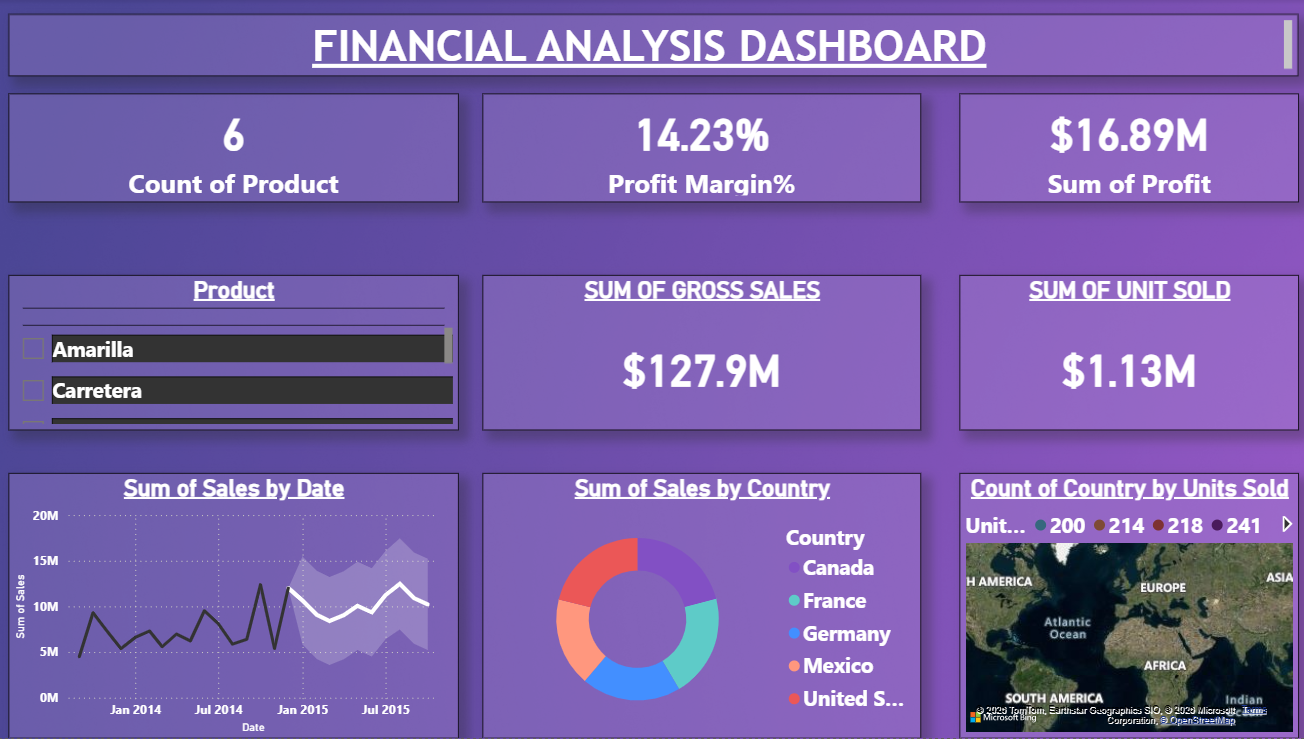

Layout of this report page (visuals, bound fields, positions):
{"tool":"powerbi","page":{"name":"Page 1","canvas":[1280,720],"ordinal":0},"visuals":[{"type":"slicer","title":"Product","fields":{"Values":["financials.Product"]},"box":[13.2,268.3,438.4,151.2],"z":0},{"type":"lineChart","fields":{"Category":["financials.Date"],"Y":["Sum(financials.Sales)"]},"box":[13.2,461.1,438.4,258.9],"z":1000},{"type":"filledMap","fields":{"Series":["financials.Units Sold"]},"box":[939.2,461.1,330.7,258.9],"z":2000},{"type":"card","title":"SUM OF GROSS SALES","fields":{"Values":["Sum(financials.Gross Sales)"]},"box":[474.3,268.3,427.1,151.2],"z":3000},{"type":"donutChart","fields":{"Y":["Sum(financials.Sales)"],"Series":["financials.Country"]},"box":[474.3,461.1,427.1,258.9],"z":4000},{"type":"card","title":"SUM OF UNIT SOLD","fields":{"Values":["Sum(financials.Units Sold)"]},"box":[939.2,268.3,330.7,151.2],"z":5000},{"type":"card","fields":{"Values":["Sum(financials.Profit)"]},"box":[939.2,92.6,330.7,105.8],"z":6000},{"type":"card","fields":{"Values":["Count(financials.Product)"]},"box":[13.2,92.6,438.4,105.8],"z":7000},{"type":"card","fields":{"Values":["financials.Profit Margi%"]},"box":[474.3,92.6,427.1,105.8],"z":8001},{"type":"textbox","box":[13.2,15.1,1256.7,60.5],"z":8002}]}

Visuals, with their boxes in screenshot pixels (x1, y1, x2, y2), scaled from the page's 1280x720 canvas onto the 1304x739 screenshot:
"Product" slicer: {"x1": 13, "y1": 275, "x2": 460, "y2": 431}
lineChart - financials.Date x Sum(financials.Sales): {"x1": 13, "y1": 473, "x2": 460, "y2": 738}
filledMap - financials.Units Sold: {"x1": 957, "y1": 473, "x2": 1294, "y2": 738}
"SUM OF GROSS SALES" card: {"x1": 483, "y1": 275, "x2": 918, "y2": 431}
donutChart - Sum(financials.Sales) x financials.Country: {"x1": 483, "y1": 473, "x2": 918, "y2": 738}
"SUM OF UNIT SOLD" card: {"x1": 957, "y1": 275, "x2": 1294, "y2": 431}
card - Sum(financials.Profit): {"x1": 957, "y1": 95, "x2": 1294, "y2": 204}
card - Count(financials.Product): {"x1": 13, "y1": 95, "x2": 460, "y2": 204}
card - financials.Profit Margi%: {"x1": 483, "y1": 95, "x2": 918, "y2": 204}
textbox: {"x1": 13, "y1": 15, "x2": 1294, "y2": 78}
